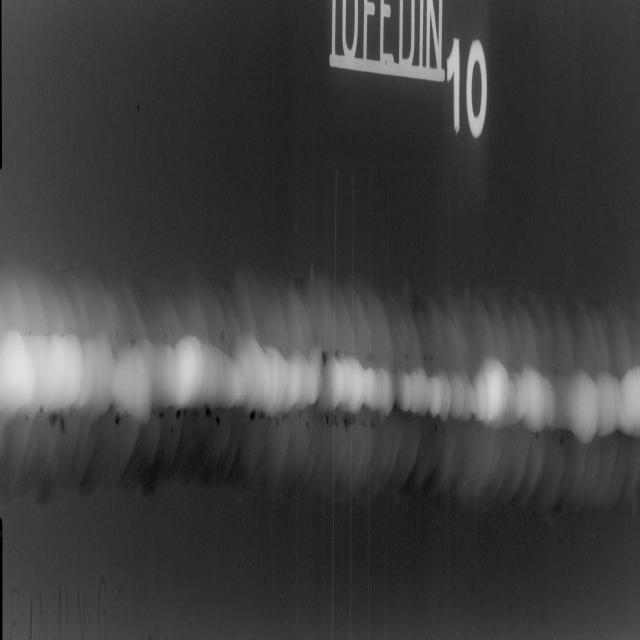FF: (408, 404, 639, 530), (322, 393, 407, 438), (246, 393, 319, 442), (160, 307, 230, 358), (316, 332, 376, 373), (395, 330, 447, 374), (154, 395, 224, 427), (24, 400, 71, 432), (110, 314, 142, 358), (100, 398, 133, 435)
PE: (0, 314, 94, 436)
PO: (169, 419, 175, 441)
